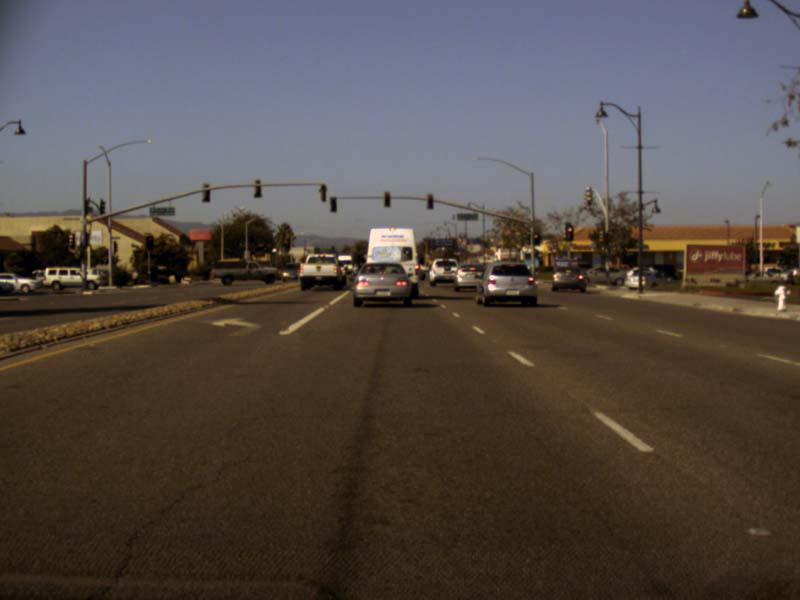Red: (565, 222, 573, 240), (383, 191, 390, 206), (426, 193, 433, 208), (533, 231, 539, 244)
